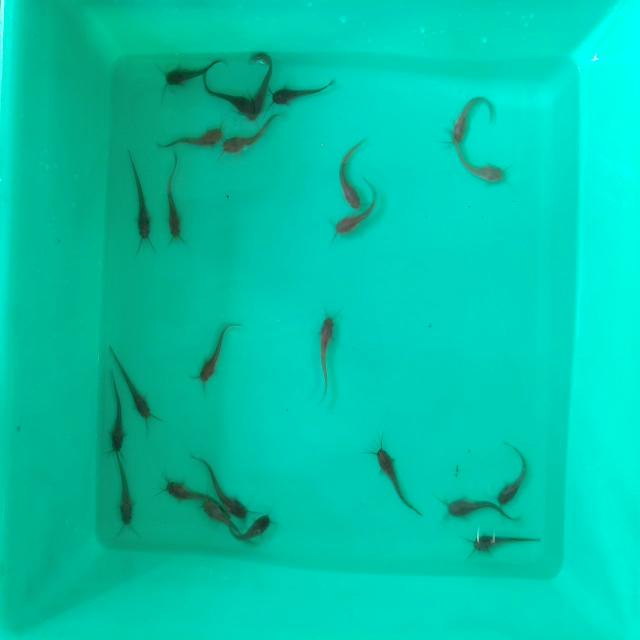lele: (375, 440, 423, 518), (194, 319, 242, 382), (451, 139, 507, 188), (128, 155, 158, 246), (124, 345, 158, 421), (219, 448, 257, 513), (327, 207, 383, 246), (317, 310, 340, 398), (115, 447, 138, 532), (498, 448, 532, 505), (468, 532, 542, 558), (105, 369, 127, 455), (157, 122, 220, 152), (223, 122, 282, 154), (337, 141, 364, 210), (164, 154, 185, 242), (250, 46, 274, 120), (273, 80, 335, 108), (444, 495, 501, 525), (450, 93, 481, 142), (165, 57, 223, 83), (230, 514, 279, 543), (199, 88, 254, 111), (165, 478, 210, 505), (191, 501, 234, 526)
